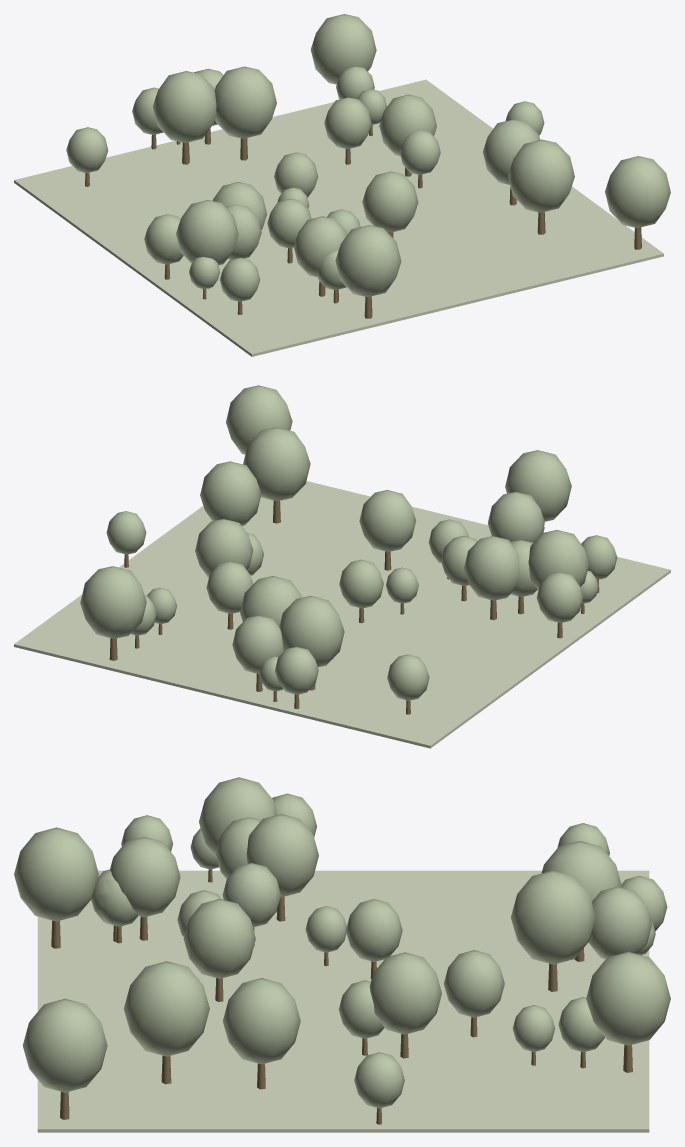
The picture shows the model from 3 angles, top to bottom: view 1: azimuth 30°, elevation 25°; view 2: azimuth 150°, elevation 25°; view 3: azimuth 270°, elevation 25°; orthographic projection. The views are drawn at different scales.
Visible parts, largest first — view 1: terrain, lod-near-22, lod-near-3, lod-near-9, lod-near-15, lod-near-6, lod-near-26, lod-near-16, lod-near-14, lod-near-29, lod-near-0, lod-near-8 (+15 smaller); view 2: terrain, lod-near-26, lod-near-22, lod-near-15, lod-near-3, lod-near-0, lod-near-17, lod-near-9, lod-near-14, lod-near-16, lod-near-29, lod-near-8 (+14 smaller); view 3: terrain, lod-near-22, lod-near-6, lod-near-3, lod-near-9, lod-near-26, lod-near-0, lod-near-29, lod-near-14, lod-near-17, lod-near-8, lod-near-19 (+18 smaller).
Part boxes in pixels (left/top/right/bottom): terrain: left=14, top=79, right=663, bottom=356; lod-near-22: left=508, top=139, right=574, bottom=212; lod-near-3: left=335, top=225, right=401, bottom=297; lod-near-9: left=605, top=156, right=670, bottom=227; lod-near-15: left=152, top=71, right=216, bottom=142; lod-near-6: left=214, top=66, right=276, bottom=138; lod-near-26: left=310, top=14, right=376, bottom=84; lod-near-16: left=176, top=200, right=238, bottom=265; lod-near-14: left=362, top=171, right=418, bottom=232; lod-near-29: left=379, top=94, right=436, bottom=155; lod-near-0: left=483, top=119, right=540, bottom=184; lod-near-8: left=293, top=216, right=346, bottom=277; terrain: left=14, top=481, right=670, bottom=748; lod-near-26: left=80, top=566, right=146, bottom=638; lod-near-22: left=243, top=427, right=310, bottom=501; lod-near-15: left=279, top=596, right=344, bottom=667; lod-near-3: left=505, top=450, right=571, bottom=521; lod-near-0: left=200, top=461, right=261, bottom=525; lod-near-17: left=464, top=536, right=519, bottom=600; lod-near-9: left=226, top=385, right=292, bottom=454; lod-near-14: left=359, top=490, right=416, bottom=551; lod-near-16: left=528, top=530, right=588, bottom=590; lod-near-29: left=195, top=519, right=253, bottom=577; lod-near-8: left=487, top=491, right=544, bottom=542; terrain: left=37, top=870, right=649, bottom=1132; lod-near-22: left=124, top=961, right=209, bottom=1056; lod-near-6: left=511, top=870, right=595, bottom=964; lod-near-3: left=14, top=827, right=98, bottom=921; lod-near-9: left=22, top=998, right=107, bottom=1092; lod-near-26: left=586, top=951, right=670, bottom=1045; lod-near-0: left=223, top=978, right=300, bottom=1064; lod-near-29: left=369, top=952, right=441, bottom=1034; lod-near-14: left=183, top=899, right=255, bottom=978; lod-near-17: left=246, top=814, right=318, bottom=897; lod-near-8: left=110, top=837, right=180, bottom=917; lod-near-19: left=588, top=886, right=652, bottom=959.
Bounding box in the file's own units: 33.6 × 7.12 × 34.38.
